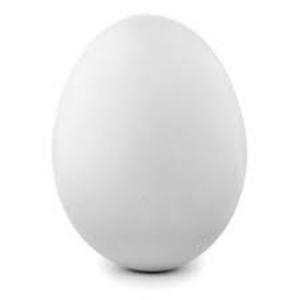Egg: (51, 10, 251, 276)
